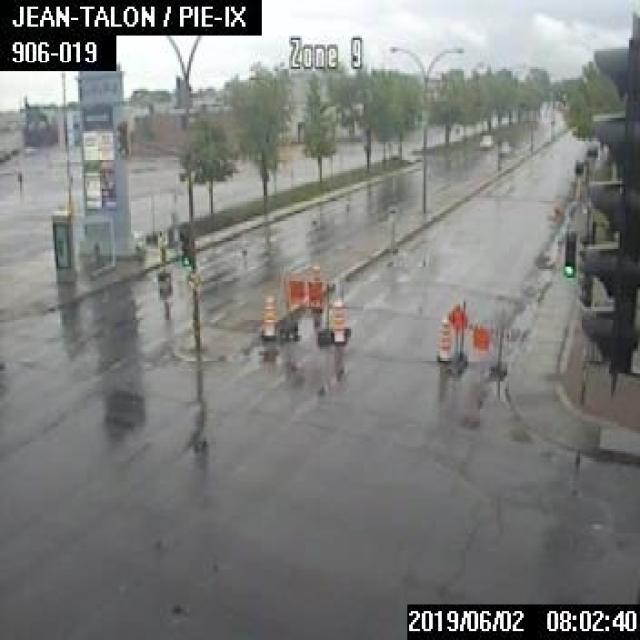construction: (276, 264, 334, 344), (447, 300, 506, 374), (435, 317, 450, 361), (331, 298, 345, 344), (260, 294, 274, 338)
vehicle: (477, 132, 492, 146), (497, 139, 511, 153)
